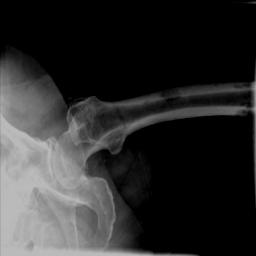cancer: (161, 84, 181, 100)
